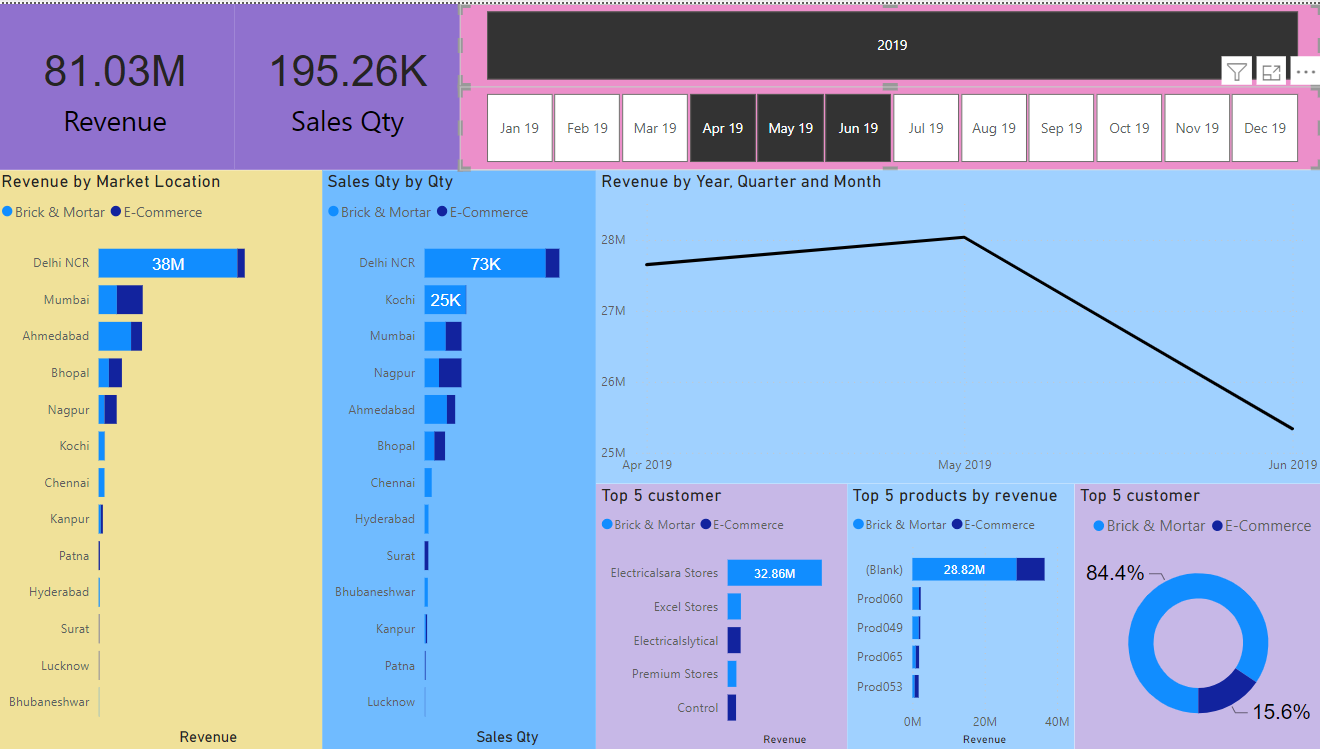

The page's visual inventory and layout, read from the dashboard file:
{"tool":"powerbi","page":{"name":"Page 1","canvas":[1280,720],"ordinal":0},"visuals":[{"type":"card","fields":{"Values":["BaseMeasures.Revenue"]},"box":[0,0,230,160],"z":0},{"type":"card","fields":{"Values":["BaseMeasures.Sales Qty"]},"box":[230,0,217.5,160],"z":1000},{"type":"barChart","title":"Revenue by Market Location","fields":{"Y":["BaseMeasures.Revenue"],"Category":["sales markets.markets_name"],"Series":["sales customers.customer_type"]},"box":[0,160,315,560],"z":2000},{"type":"barChart","title":"Sales Qty by Qty","fields":{"Y":["BaseMeasures.Sales Qty"],"Category":["sales markets.markets_name"],"Series":["sales customers.customer_type"]},"box":[315,160,263.8,560],"z":3000},{"type":"slicer","fields":{"Values":["sales date.year"]},"box":[447.5,0,832.5,80],"z":4000},{"type":"slicer","fields":{"Values":["sales date.cy_date"]},"box":[447.5,80,832.5,80],"z":5000},{"type":"barChart","title":"Top 5 customer","fields":{"Category":["sales customers.custmer_name"],"Y":["BaseMeasures.Revenue"],"Series":["sales customers.customer_type"]},"box":[578.8,538.8,242.5,181.2],"z":6000},{"type":"barChart","title":"Top 5 products by revenue","fields":{"Category":["sales products.product_code"],"Y":["BaseMeasures.Revenue"],"Series":["sales customers.customer_type"]},"box":[821.2,538.8,220,181.2],"z":7000},{"type":"lineChart","fields":{"Y":["BaseMeasures.Revenue"],"Category":["sales date.cy_date.Variation.Date Hierarchy.Year","sales date.cy_date.Variation.Date Hierarchy.Quarter","sales date.cy_date.Variation.Date Hierarchy.Month","sales date.cy_date.Variation.Date Hierarchy.Day"]},"box":[578.8,160,701.2,378.8],"z":8000},{"type":"donutChart","title":"Top 5 customer","fields":{"Category":["sales customers.customer_type"],"Y":["BaseMeasures.Revenue"]},"box":[1037.5,538.8,242.5,181.2],"z":8001}]}

Visuals, with their boxes in screenshot pixels (x1, y1, x2, y2), scaled from the page's 1280x720 canvas onto the 1320x749 screenshot:
card - BaseMeasures.Revenue: (left=0, top=0, right=237, bottom=166)
card - BaseMeasures.Sales Qty: (left=237, top=0, right=461, bottom=166)
"Revenue by Market Location" barChart: (left=0, top=166, right=325, bottom=748)
"Sales Qty by Qty" barChart: (left=325, top=166, right=597, bottom=748)
slicer - sales date.year: (left=461, top=0, right=1319, bottom=83)
slicer - sales date.cy_date: (left=461, top=83, right=1319, bottom=166)
"Top 5 customer" barChart: (left=597, top=561, right=847, bottom=748)
"Top 5 products by revenue" barChart: (left=847, top=561, right=1074, bottom=748)
lineChart - BaseMeasures.Revenue x sales date.cy_date.Variation.Date Hierarchy.Year: (left=597, top=166, right=1319, bottom=561)
"Top 5 customer" donutChart: (left=1070, top=561, right=1319, bottom=748)
